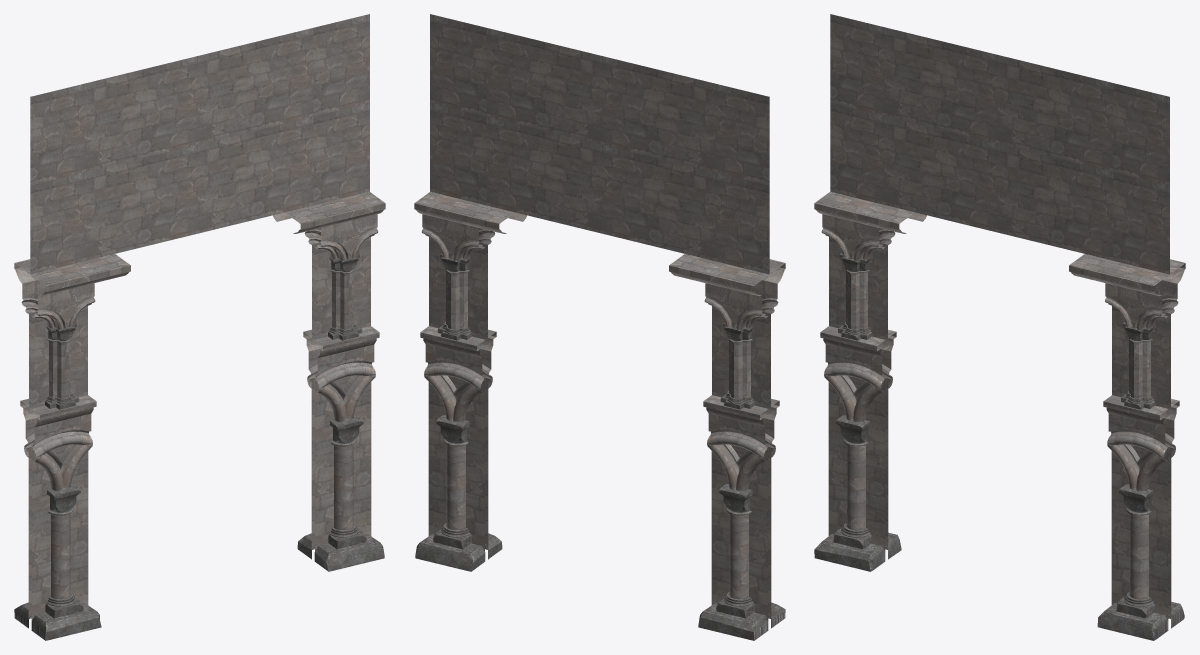
3 views of the same model, side by side, from view 1: azimuth 30°, elevation 25°; view 2: azimuth 150°, elevation 25°; view 3: azimuth 330°, elevation 25° (orthographic).
Visible parts, largest first — view 1: SM_DungeonDoorWall_LOD0; view 2: SM_DungeonDoorWall_LOD0; view 3: SM_DungeonDoorWall_LOD0.
Part boxes in pixels (bbox=[...]): SM_DungeonDoorWall_LOD0: bbox=[14, 14, 385, 640]; SM_DungeonDoorWall_LOD0: bbox=[414, 14, 785, 640]; SM_DungeonDoorWall_LOD0: bbox=[814, 14, 1185, 640].
Size of the model in its own units: 6.01 by 9 by 0.9704.
2 materials, 2 textured.
